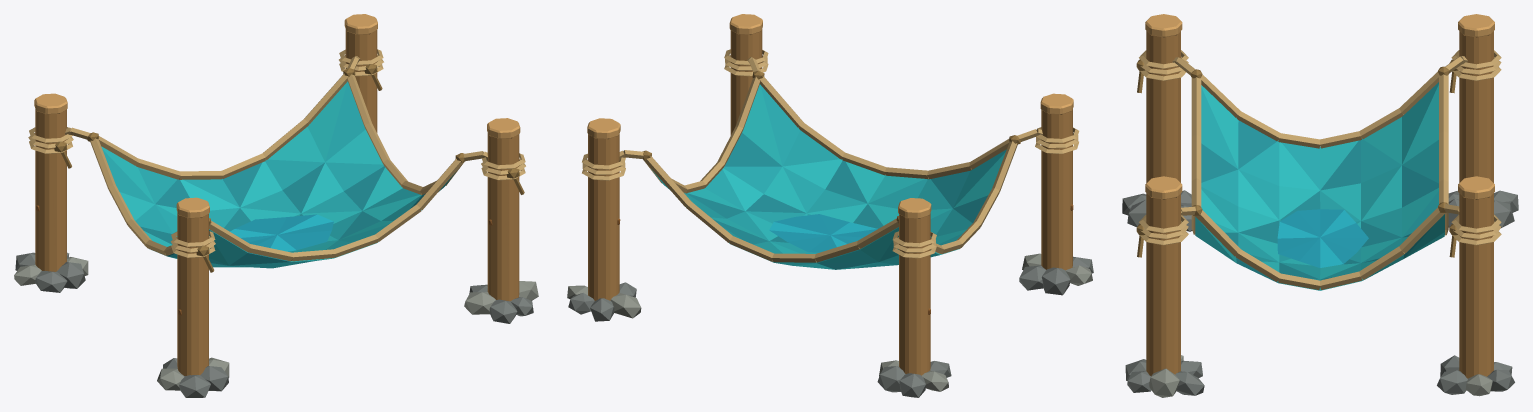
The model's file is rainwater_collector.glb.
3 renders of one model, left to right at view 1: azimuth 30°, elevation 25°; view 2: azimuth 150°, elevation 25°; view 3: azimuth 270°, elevation 25°, orthographic. The views are drawn at different scales.
Parts seen in each view (by area): view 1: Collector_Tarp, Front_Right_Post, Front_Left_Post, Back_Left_Post, Collected_Water_Surface, Back_Right_Post, Front_Right_Cut_Cap, Back_Right_Cut_Cap, Back_Left_Cut_Cap, Front_Left_Cut_Cap, Front_Left_Foundation_Stone_5, Front_Right_Foundation_Stone_4 (+11 smaller); view 2: Collector_Tarp, Back_Right_Post, Back_Left_Post, Front_Left_Post, Collected_Water_Surface, Front_Right_Post, Front_Left_Foundation_Stone_3, Back_Right_Cut_Cap, Back_Left_Cut_Cap, Front_Right_Cut_Cap, Front_Left_Cut_Cap, Back_Right_Foundation_Stone_4 (+10 smaller); view 3: Collector_Tarp, Back_Right_Post, Front_Right_Post, Front_Left_Post, Back_Left_Post, Collected_Water_Surface, Front_Left_Cut_Cap, Front_Right_Cut_Cap, Back_Left_Cut_Cap, Back_Right_Cut_Cap, Front_Right_Foundation_Stone_1, Front_Rim_Rope_Segment_01 (+22 smaller).
Boxes of the visible parts, x1,y1,x2,y2 form: Collector_Tarp: [101, 81, 455, 268]; Front_Right_Post: [487, 133, 519, 301]; Front_Left_Post: [177, 213, 208, 375]; Back_Left_Post: [35, 109, 66, 271]; Collected_Water_Surface: [230, 214, 333, 251]; Back_Right_Post: [345, 30, 377, 132]; Front_Right_Cut_Cap: [487, 118, 520, 139]; Back_Right_Cut_Cap: [344, 14, 377, 34]; Back_Left_Cut_Cap: [34, 93, 67, 114]; Front_Left_Cut_Cap: [176, 197, 209, 218]; Front_Left_Foundation_Stone_5: [179, 375, 210, 397]; Front_Right_Foundation_Stone_4: [464, 292, 495, 314]; Collector_Tarp: [651, 84, 1006, 269]; Back_Right_Post: [588, 134, 619, 300]; Back_Left_Post: [899, 213, 930, 375]; Front_Left_Post: [1041, 109, 1072, 270]; Collected_Water_Surface: [769, 214, 877, 252]; Front_Right_Post: [730, 29, 762, 135]; Front_Left_Foundation_Stone_3: [1041, 267, 1070, 295]; Back_Right_Cut_Cap: [587, 118, 620, 139]; Back_Left_Cut_Cap: [898, 198, 931, 218]; Front_Right_Cut_Cap: [729, 14, 762, 34]; Front_Left_Cut_Cap: [1040, 93, 1073, 114]; Back_Right_Foundation_Stone_4: [610, 292, 641, 318]; Collector_Tarp: [1195, 82, 1444, 290]; Back_Right_Post: [1459, 193, 1493, 378]; Front_Right_Post: [1146, 193, 1180, 375]; Front_Left_Post: [1146, 31, 1180, 182]; Back_Left_Post: [1459, 31, 1493, 182]; Collected_Water_Surface: [1277, 209, 1368, 267]; Front_Left_Cut_Cap: [1145, 14, 1182, 37]; Front_Right_Cut_Cap: [1145, 176, 1182, 199]; Back_Left_Cut_Cap: [1458, 14, 1494, 37]; Back_Right_Cut_Cap: [1458, 176, 1494, 199]; Front_Right_Foundation_Stone_1: [1149, 368, 1179, 397]; Front_Rim_Rope_Segment_01: [1191, 77, 1201, 136].
Size of the model in its own units: 6.16 by 2.96 by 5.07.
